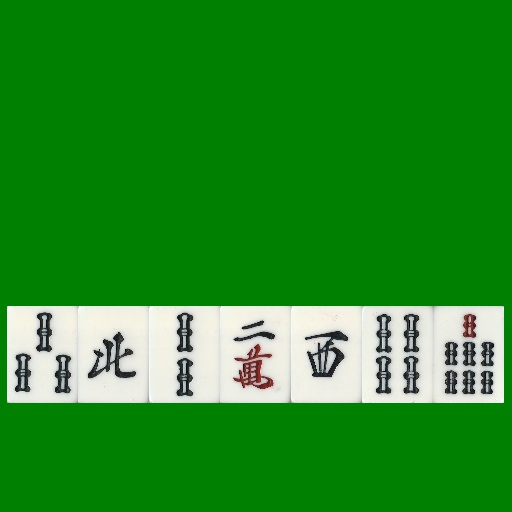2m: (220, 306, 291, 403)
2s: (149, 306, 220, 403)
3s: (7, 306, 78, 403)
4s: (362, 306, 433, 403)
7s: (433, 306, 504, 403)
north: (78, 306, 149, 403)
west: (291, 306, 362, 403)
